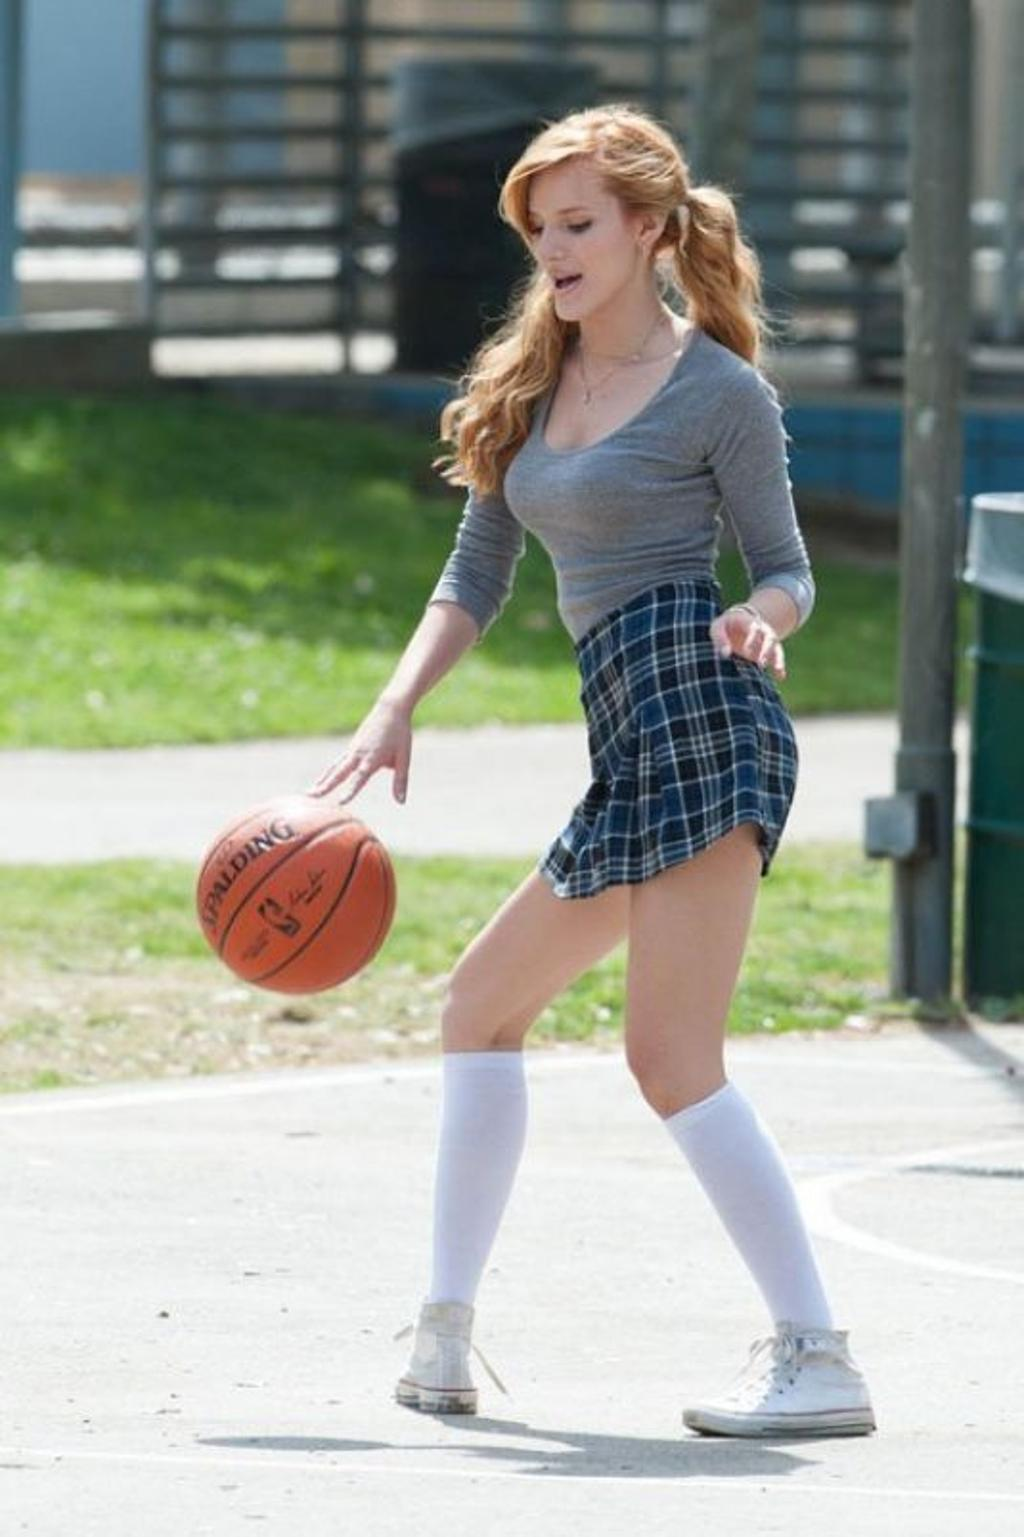face: (530, 121, 647, 322)
